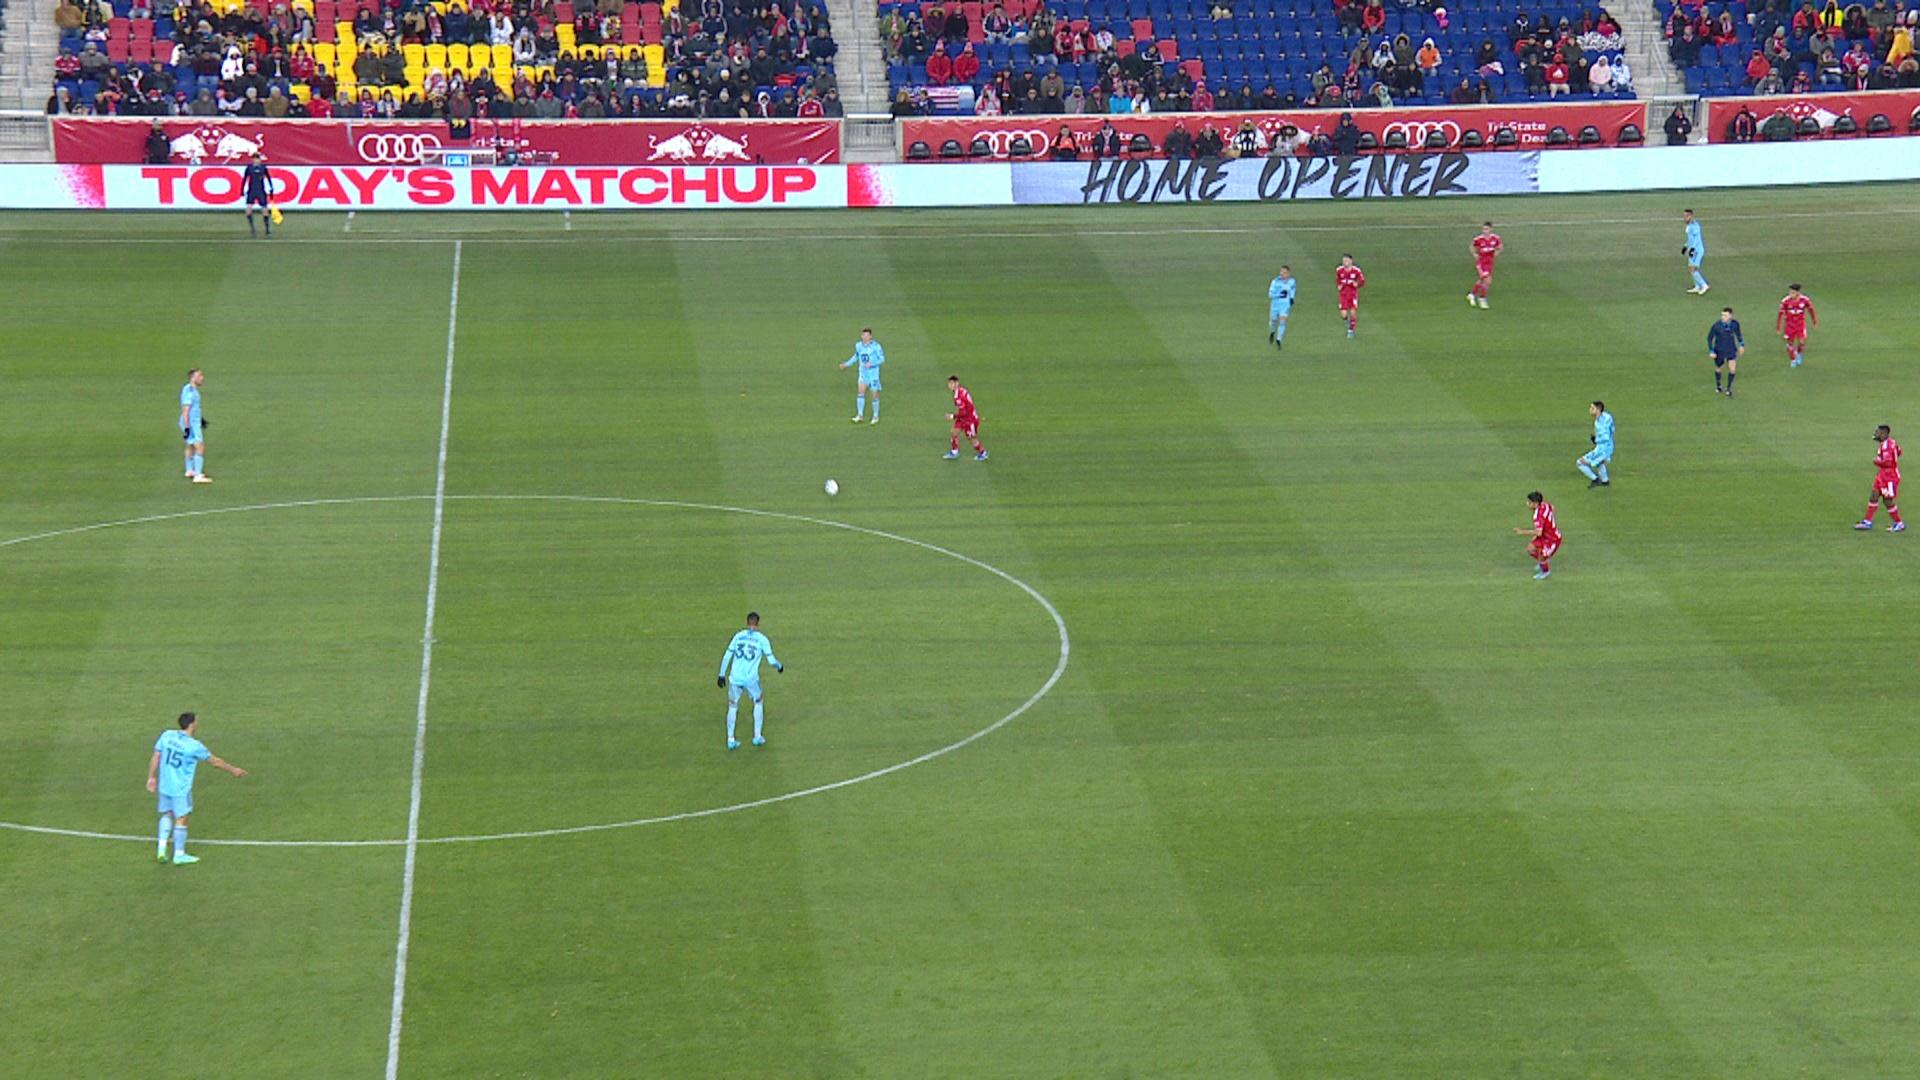football: (824, 479, 840, 496)
